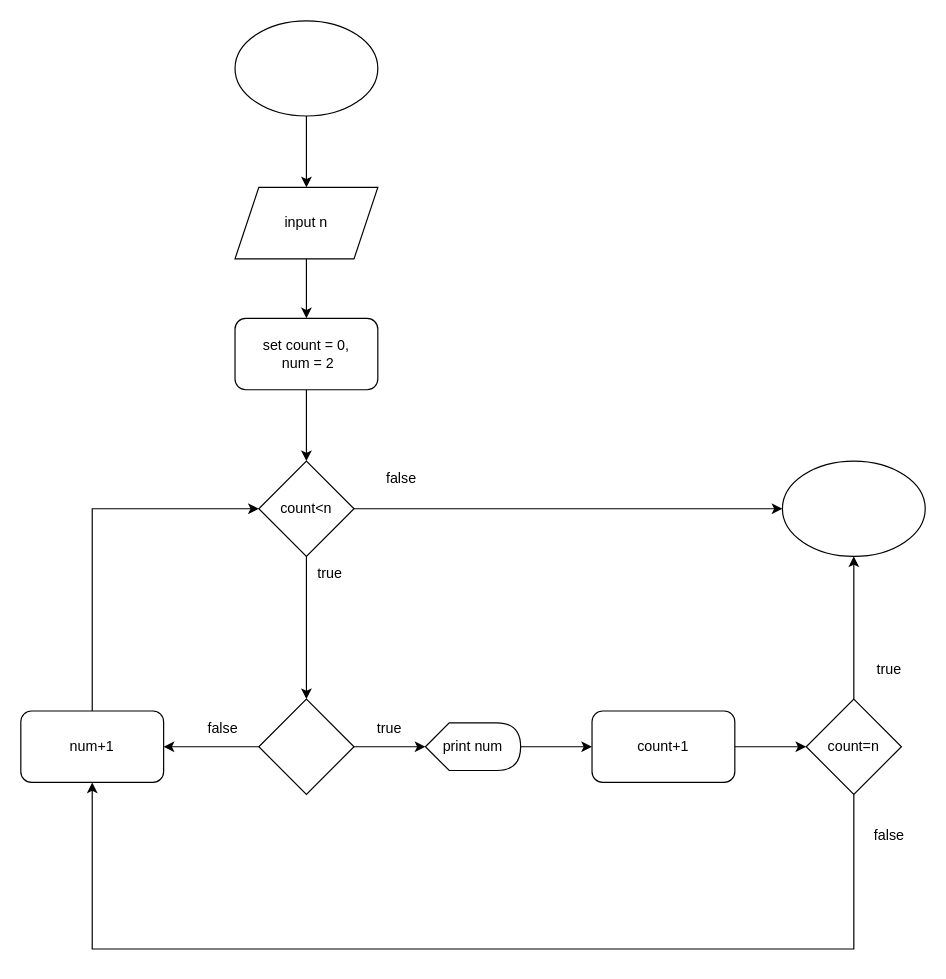
The diagram is 946 pixels wide and 979 high, and some of its shapes have lost their labels. The shapes that lost their labels are listed below. From the top down, each one's centre as x and y in pixels, then its label:
the point at 306,68: start
the point at 853,508: end
the point at 306,746: num có phải số nguyên tố?
